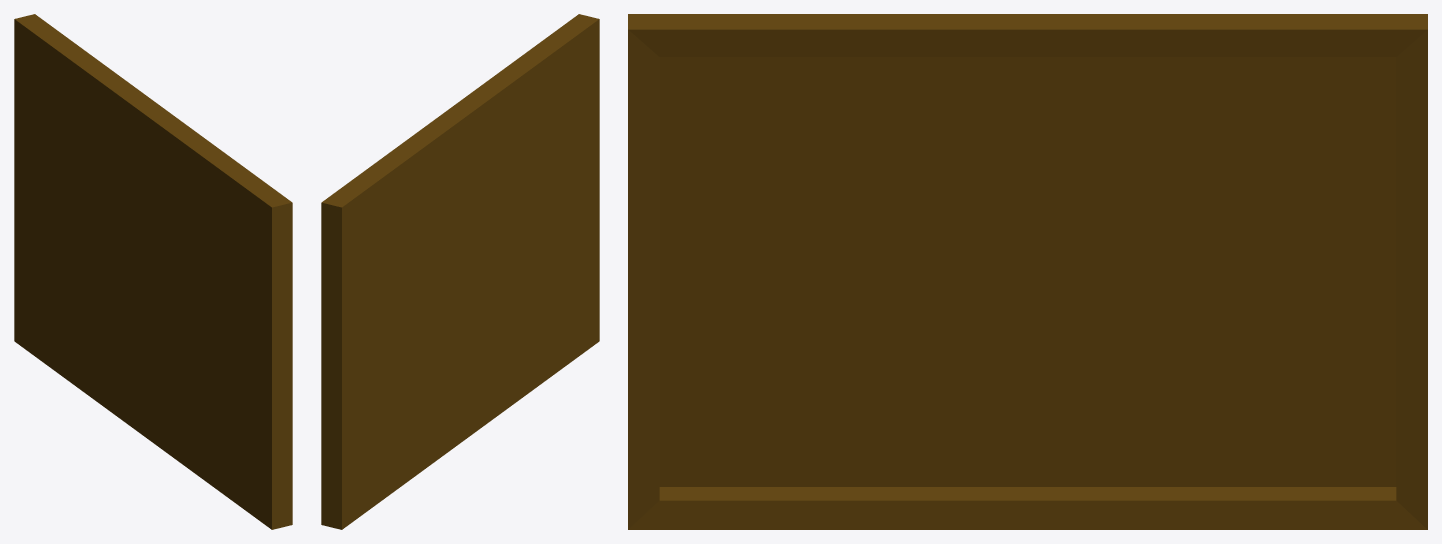
The model's file is pictureframe02.gltf.
The picture shows the model from 3 angles, left to right: view 1: azimuth 30°, elevation 25°; view 2: azimuth 150°, elevation 25°; view 3: azimuth 270°, elevation 25°; orthographic projection. The views are drawn at different scales.
Parts seen in each view (by area): view 1: Cube; view 2: Cube; view 3: Cube.
Part boxes in pixels (<box>): Cube: <box>14,14,292,529</box>; Cube: <box>321,14,599,529</box>; Cube: <box>628,14,1427,529</box>.
Bounding box in the file's own units: 0.02 × 0.3 × 0.4345.
Materials: 1 (1 with a texture image).
